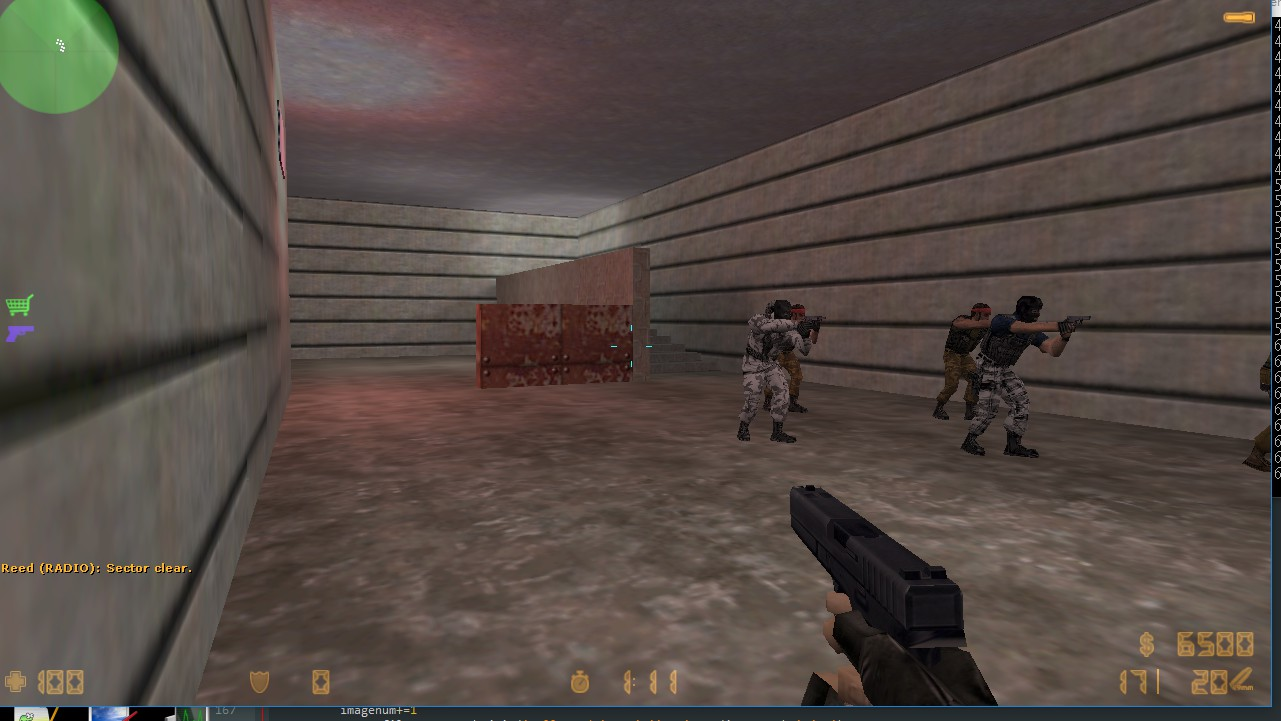person: (975, 289, 1050, 455), (744, 298, 797, 458), (943, 289, 988, 419)
